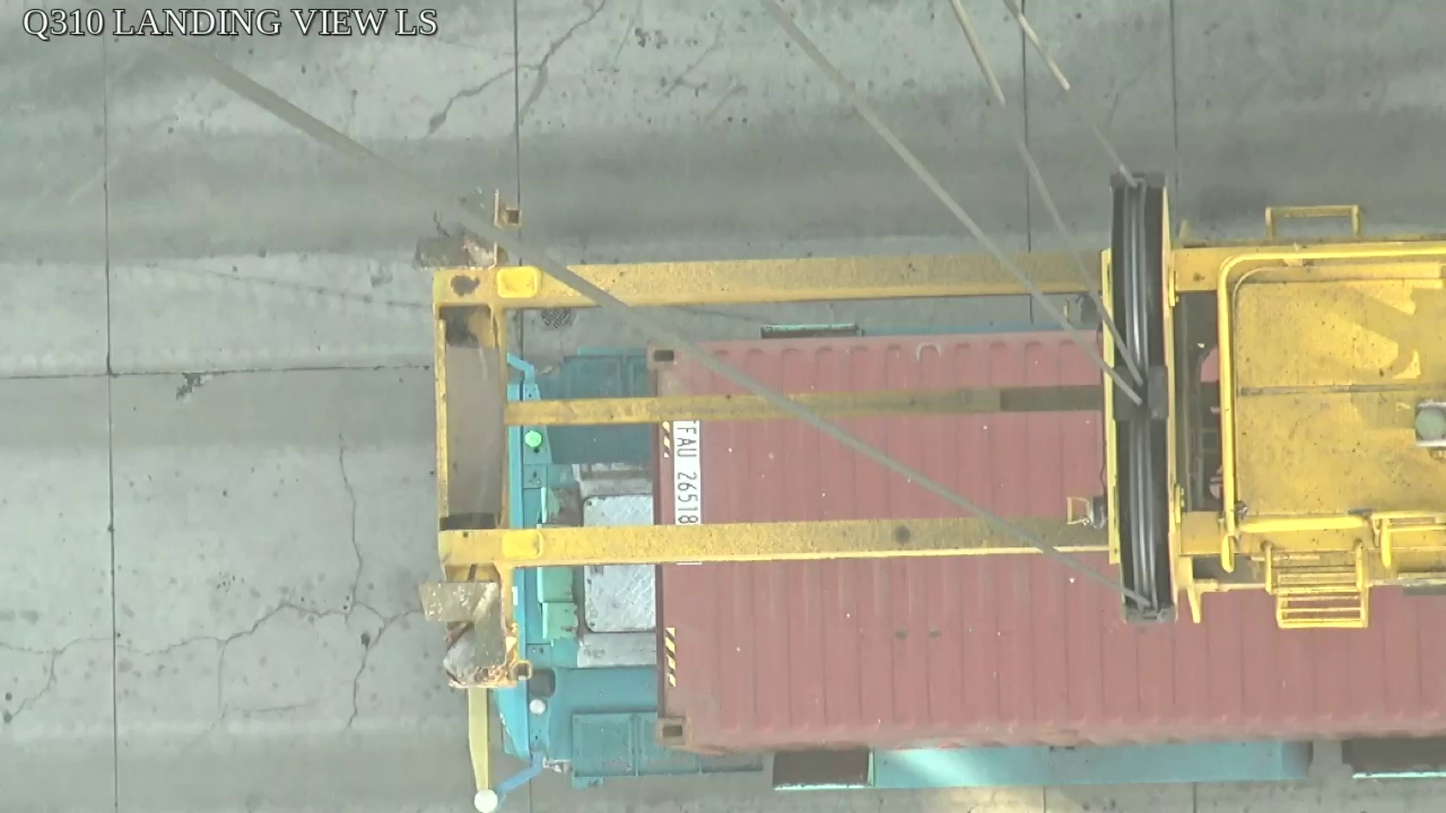aa: (1107, 172, 1185, 625)
